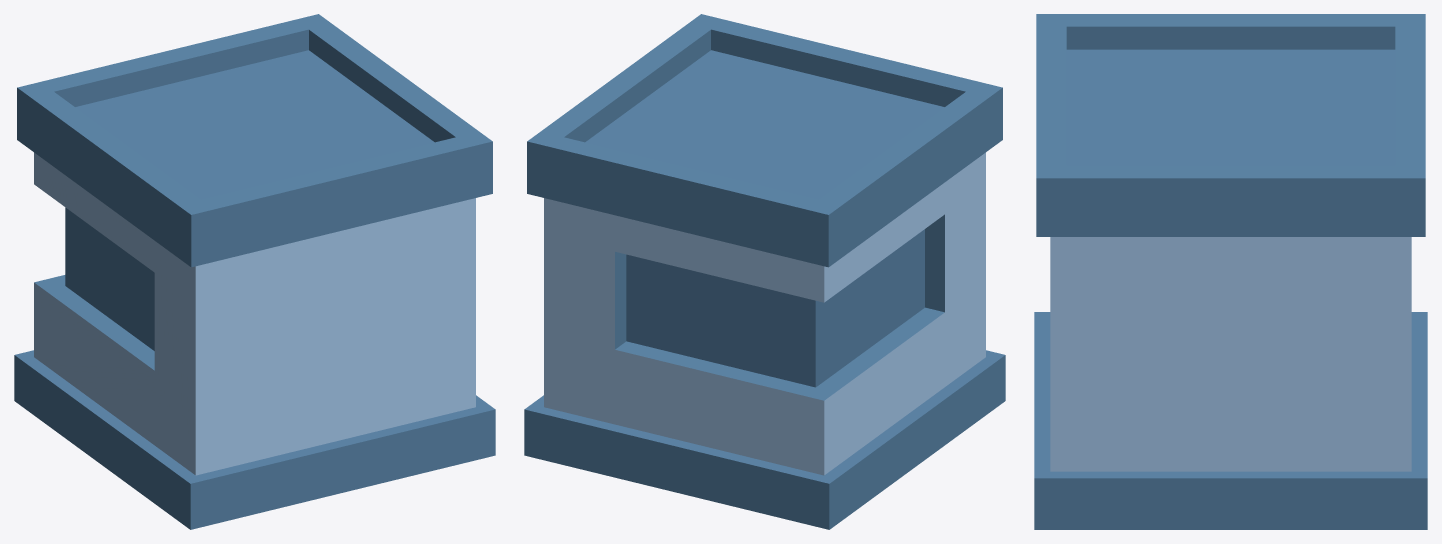
The model's file is Map-House-S-Lv1-B.fbx.
The picture shows the model from 3 angles, left to right: view 1: azimuth 30°, elevation 25°; view 2: azimuth 150°, elevation 25°; view 3: azimuth 270°, elevation 25°; orthographic projection. The views are drawn at different scales.
Visible parts, largest first — view 1: Map-House-S-Lv1-B; view 2: Map-House-S-Lv1-B; view 3: Map-House-S-Lv1-B.
Part boxes in pixels (bbox=[...]): Map-House-S-Lv1-B: bbox=[14, 14, 495, 529]; Map-House-S-Lv1-B: bbox=[524, 14, 1005, 529]; Map-House-S-Lv1-B: bbox=[1034, 14, 1427, 529].
Size of the model in its own units: 1.32 by 1.3 by 1.32.
